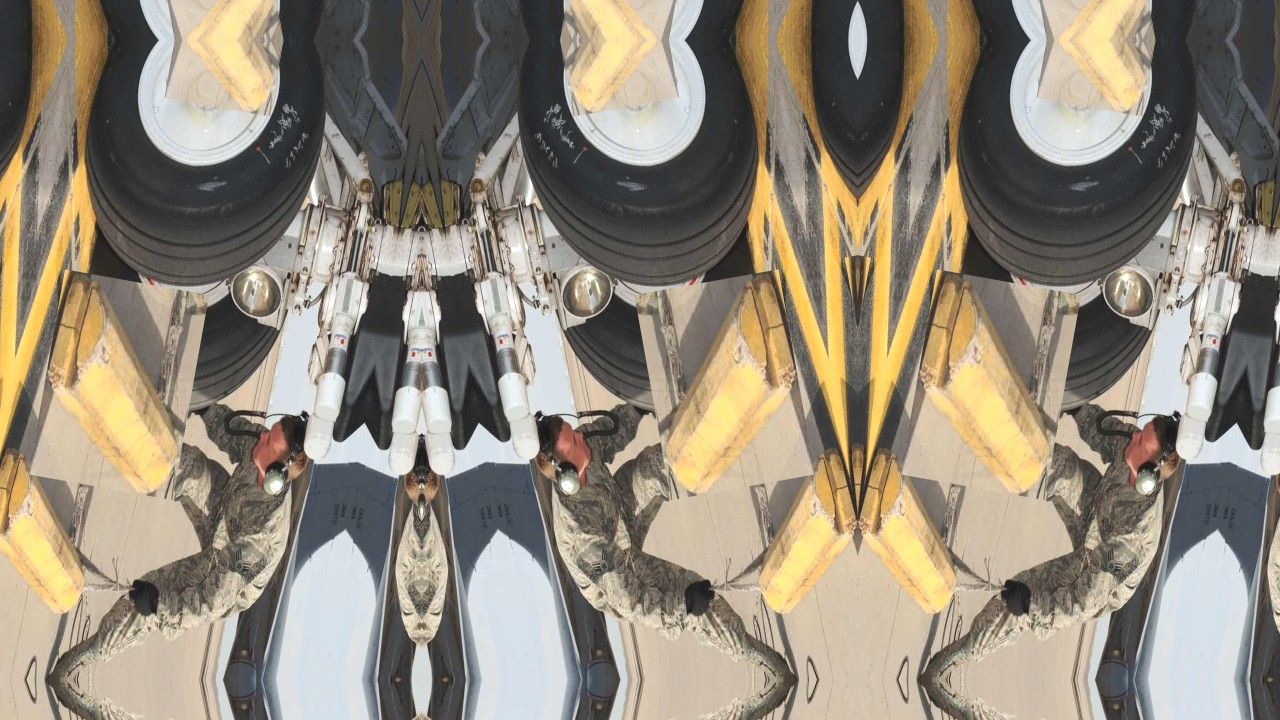chock: (28, 269, 209, 500), (634, 269, 815, 500), (901, 269, 1082, 500), (735, 444, 858, 619), (858, 444, 981, 619), (0, 444, 108, 619), (164, 40, 296, 117), (547, 40, 679, 117), (1037, 40, 1169, 117), (164, 0, 296, 40), (547, 0, 679, 40), (1037, 0, 1169, 40)
wheel: (66, 40, 347, 307), (496, 40, 777, 307), (939, 40, 1220, 307), (67, 219, 298, 428), (545, 219, 776, 428), (940, 219, 1171, 428), (66, 0, 347, 40), (496, 0, 777, 40), (939, 0, 1220, 40)
